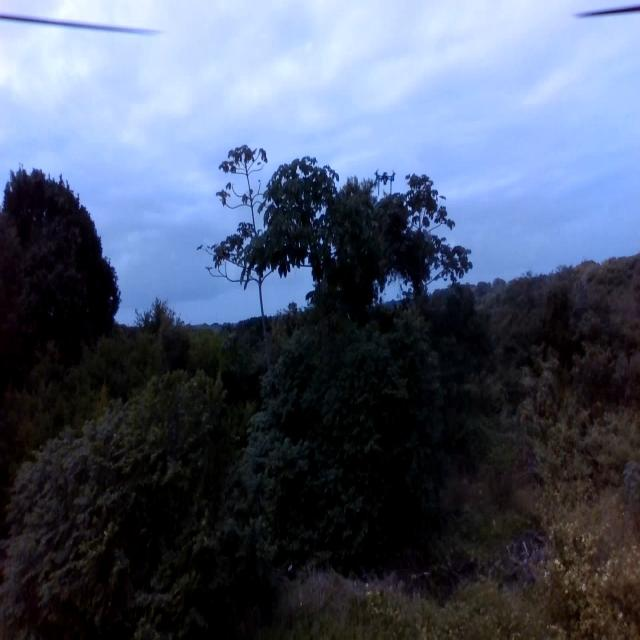-uav-: (375, 162, 397, 202)
